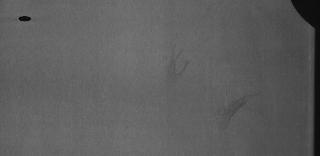punching hole: (18, 14, 32, 22)
water spot: (210, 84, 256, 132), (165, 47, 189, 85)
